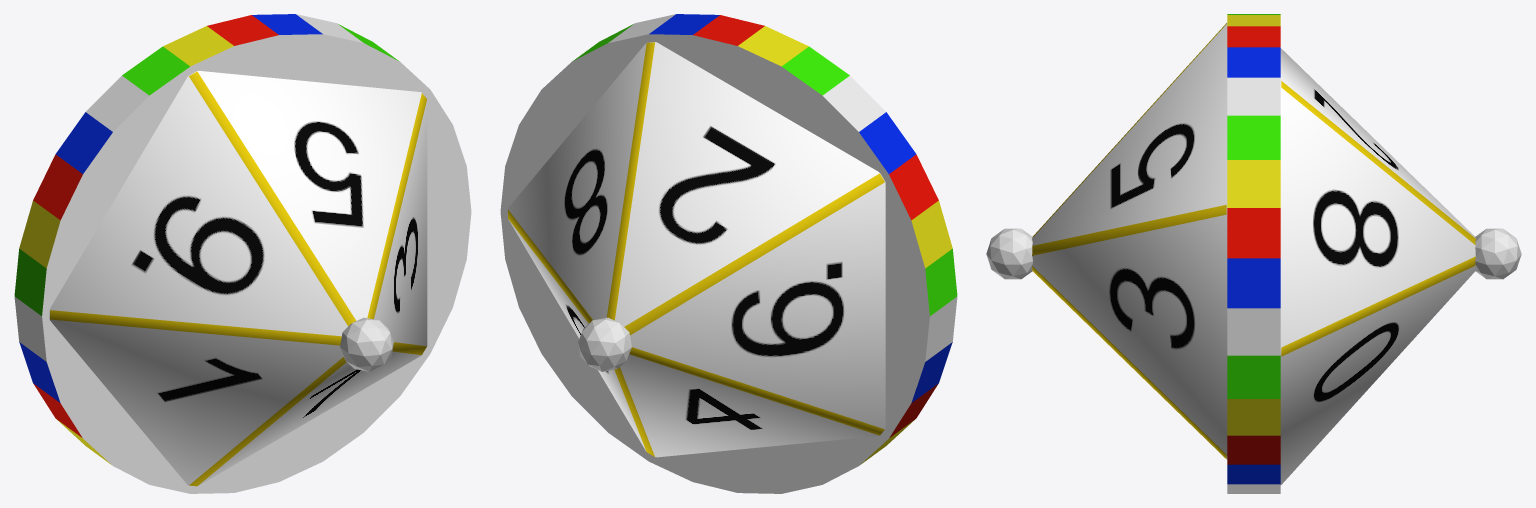
File: DrMalloyDice_d100.glb
3 renders of one model, left to right at view 1: azimuth 30°, elevation 25°; view 2: azimuth 150°, elevation 25°; view 3: azimuth 270°, elevation 25°, orthographic. The views are drawn at different scales.
Visible parts, largest first — view 1: Mesh_0; view 2: Mesh_0; view 3: Mesh_0.
Part boxes in pixels (x1,y1,x2,y2): Mesh_0: [14, 14, 471, 493]; Mesh_0: [500, 14, 957, 493]; Mesh_0: [986, 14, 1521, 493].
Bounding box in the file's own units: 180 × 179 × 200.
9 materials, 1 textured.
